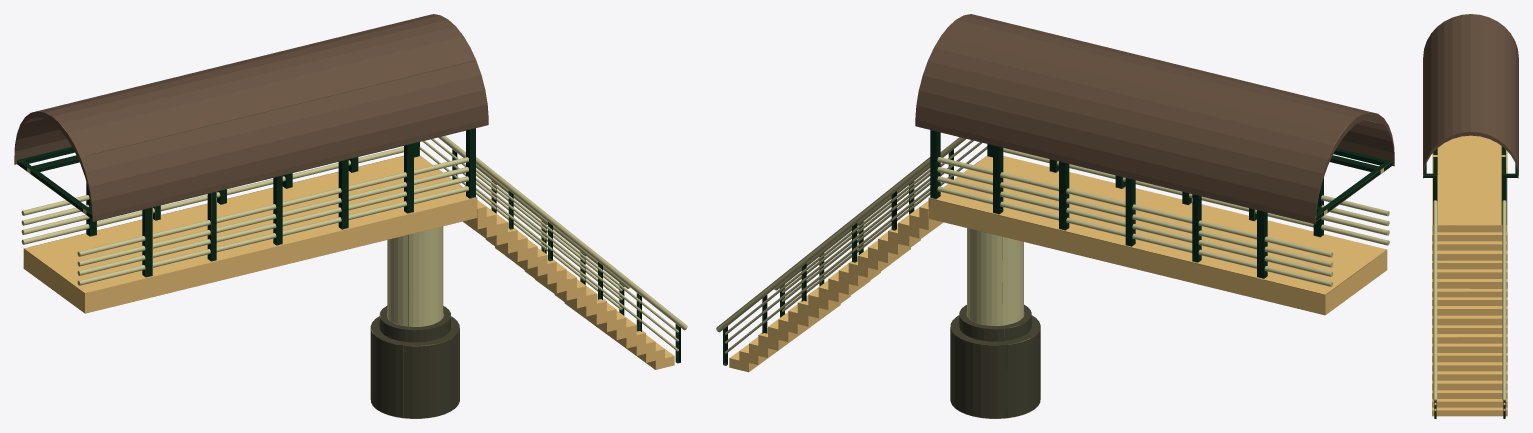
Rendered from OVERPASS #1.fbx.
3 views of the same model, side by side, from view 1: azimuth 30°, elevation 25°; view 2: azimuth 150°, elevation 25°; view 3: azimuth 270°, elevation 25° (orthographic). The views are drawn at different scales.
Parts seen in each view (by area): view 1: OVERPASS; view 2: OVERPASS; view 3: OVERPASS.
Part boxes in pixels (x1,y1,x2,y2): OVERPASS: [14, 14, 687, 418]; OVERPASS: [716, 14, 1394, 418]; OVERPASS: [1423, 14, 1518, 418].
Bounding box in the file's own units: 4948 × 2881 × 1104.
1 material, 1 textured.
